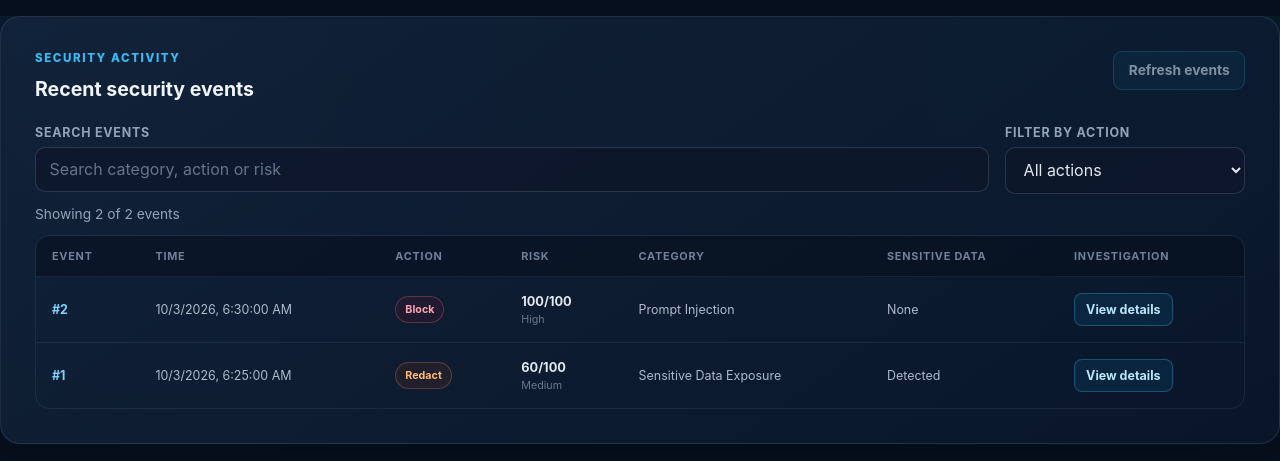
Test case: RecentEvents › filters events by recommended action
Select "Block" in the dropdown labelled "Filter by action" at {"x": 1125, "y": 170}, box [1005,147,1245,194]
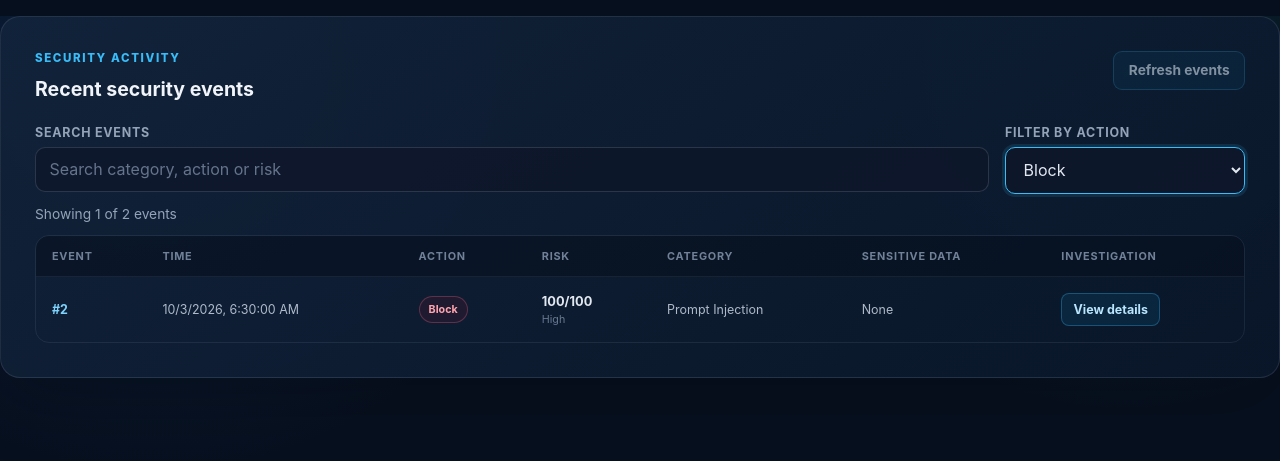
Expected: the text "#2" is shown, [36,277,146,342]
Result: the text "#1" is gone
Result: the text "Showing 1 of 2 events" is shown at [35,206,177,222]
